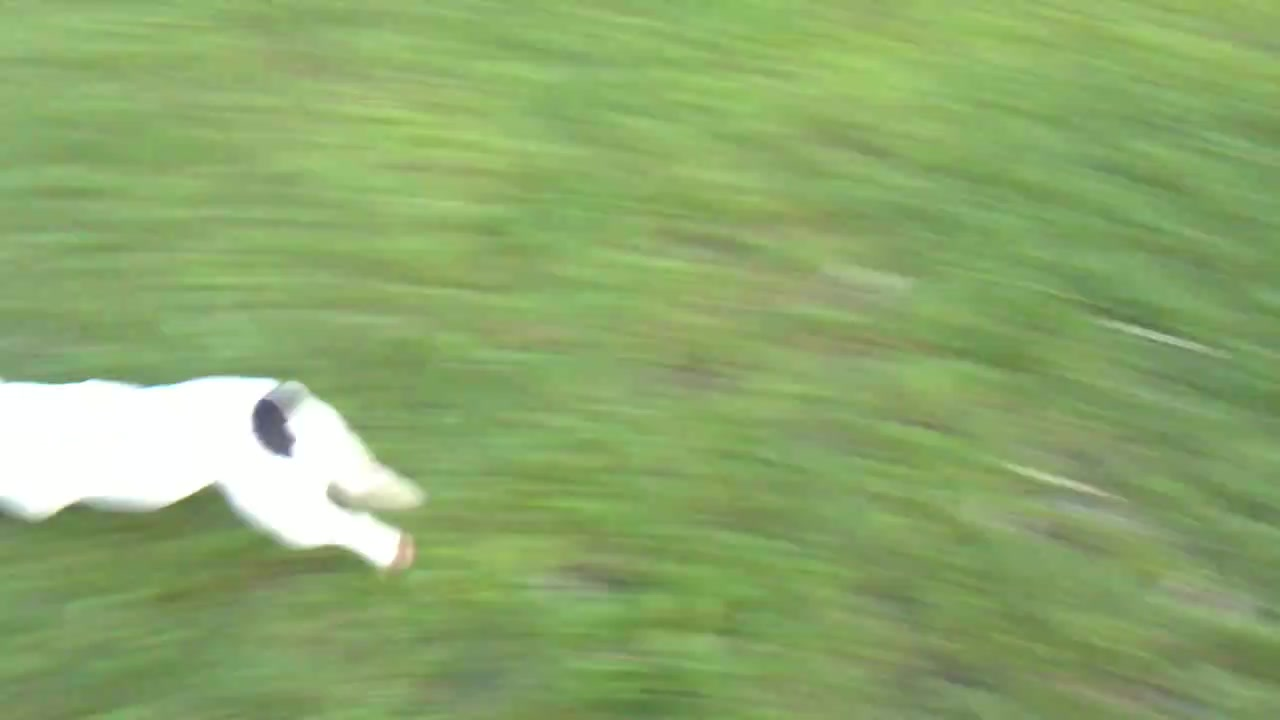dog: (1, 377, 430, 579)
